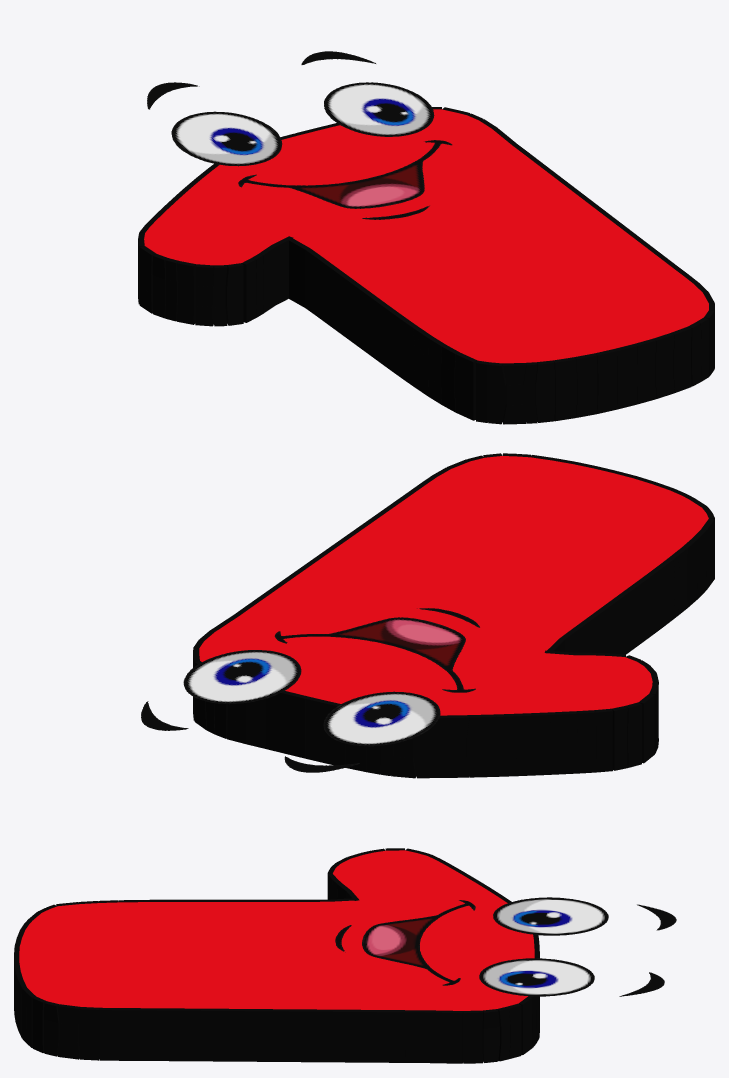
The model's file is Number 1.fbx.
The picture shows the model from 3 angles, top to bottom: view 1: azimuth 30°, elevation 25°; view 2: azimuth 150°, elevation 25°; view 3: azimuth 270°, elevation 25°; orthographic projection. The views are drawn at different scales.
Parts seen in each view (by area): view 1: Text.015; view 2: Text.015; view 3: Text.015.
Part boxes in pixels (x1,y1,x2,y2): Text.015: [138, 51, 714, 424]; Text.015: [141, 453, 714, 778]; Text.015: [14, 848, 676, 1063].
Size of the model in its own units: 52.15 by 6.92 by 80.38.
3 materials, 1 textured.
